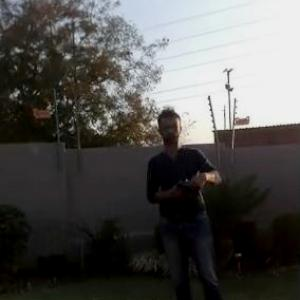follow: (140, 97, 235, 299)
